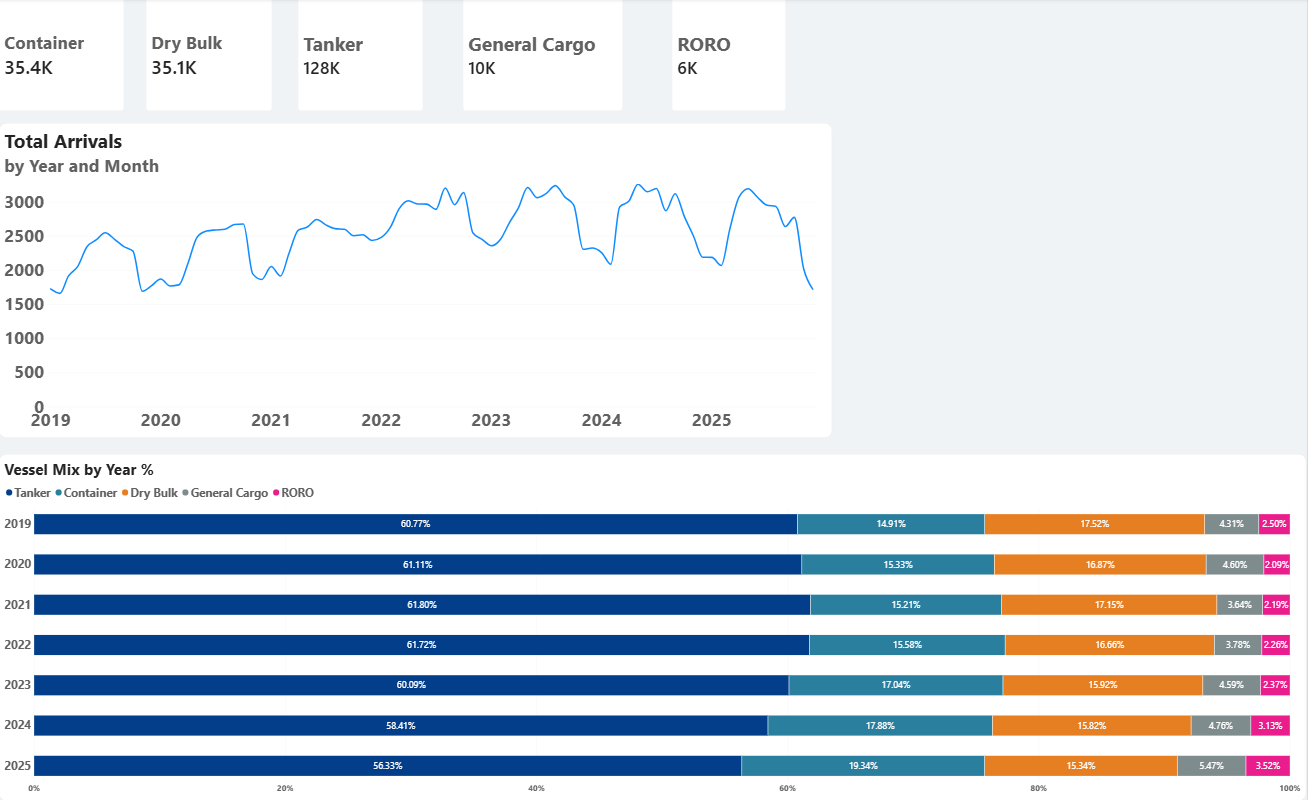

The dashboard page shown, as its layout file describes it:
{"tool":"powerbi","page":{"name":"Trends & Vessel Mix %","canvas":[4206,2580],"ordinal":1},"visuals":[{"type":"cardVisual","fields":{"Data":["Sum(gatimu1 ships_arrivals.Container)"]},"box":[0,0,402.1,363.5],"z":0},{"type":"cardVisual","fields":{"Data":["Sum(gatimu1 ships_arrivals.Dry Bulk)"]},"box":[472.9,0,405.3,363.5],"z":1000},{"type":"cardVisual","fields":{"Data":["Sum(gatimu1 ships_arrivals.Tanker)"]},"box":[961.9,0,402.1,363.5],"z":2000},{"type":"cardVisual","fields":{"Data":["Sum(gatimu1 ships_arrivals.General Cargo)"]},"box":[1492.7,0,514.7,363.5],"z":3000},{"type":"cardVisual","fields":{"Data":["Sum(gatimu1 ships_arrivals.Roll-on/roll-off)"]},"box":[2165,0,366.7,363.5],"z":4000},{"type":"areaChart","fields":{"Category":["Dim_Date.Date.Variation.Date Hierarchy.Year","Dim_Date.Date.Variation.Date Hierarchy.Month"],"Y":["Dim_Date.Total Arrivals"]},"box":[0,402.1,2679.7,1013.3],"z":5000},{"type":"hundredPercentStackedBarChart","title":"Vessel Mix by Year %","fields":{"Category":["Dim_Date.Date.Variation.Date Hierarchy.Year","Dim_Date.Date.Variation.Date Hierarchy.Month"],"Y":["Sum(gatimu1 ships_arrivals.Tanker)","Sum(gatimu1 ships_arrivals.Container)","Sum(gatimu1 ships_arrivals.Dry Bulk)","Sum(gatimu1 ships_arrivals.General Cargo)","Sum(gatimu1 ships_arrivals.Roll-on/roll-off)"]},"box":[0,1466.9,4204.6,1116.3],"z":7000}]}

Visuals, with their boxes in screenshot pixels (x1, y1, x2, y2), scaled from the page's 4206x2580 canvas onto the 1308x800 screenshot:
cardVisual - Sum(gatimu1 ships_arrivals.Container): BBox(0, 0, 125, 113)
cardVisual - Sum(gatimu1 ships_arrivals.Dry Bulk): BBox(147, 0, 273, 113)
cardVisual - Sum(gatimu1 ships_arrivals.Tanker): BBox(299, 0, 424, 113)
cardVisual - Sum(gatimu1 ships_arrivals.General Cargo): BBox(464, 0, 624, 113)
cardVisual - Sum(gatimu1 ships_arrivals.Roll-on/roll-off): BBox(673, 0, 787, 113)
areaChart - Dim_Date.Date.Variation.Date Hierarchy.Year x Dim_Date.Date.Variation.Date Hierarchy.Month: BBox(0, 125, 833, 439)
"Vessel Mix by Year %" hundredPercentStackedBarChart: BBox(0, 455, 1307, 799)
